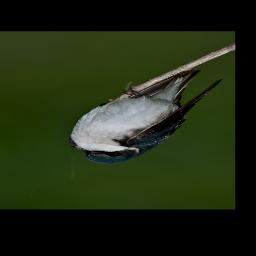Swallow: (65, 68, 223, 167)
